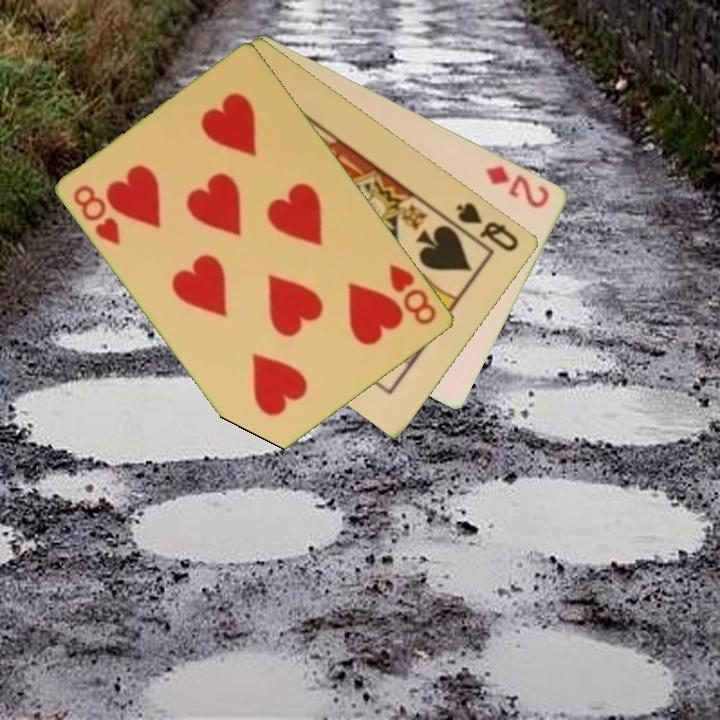2d: (482, 162, 553, 211)
8h: (386, 260, 440, 328), (70, 181, 124, 248)
Qs: (453, 198, 522, 255)
